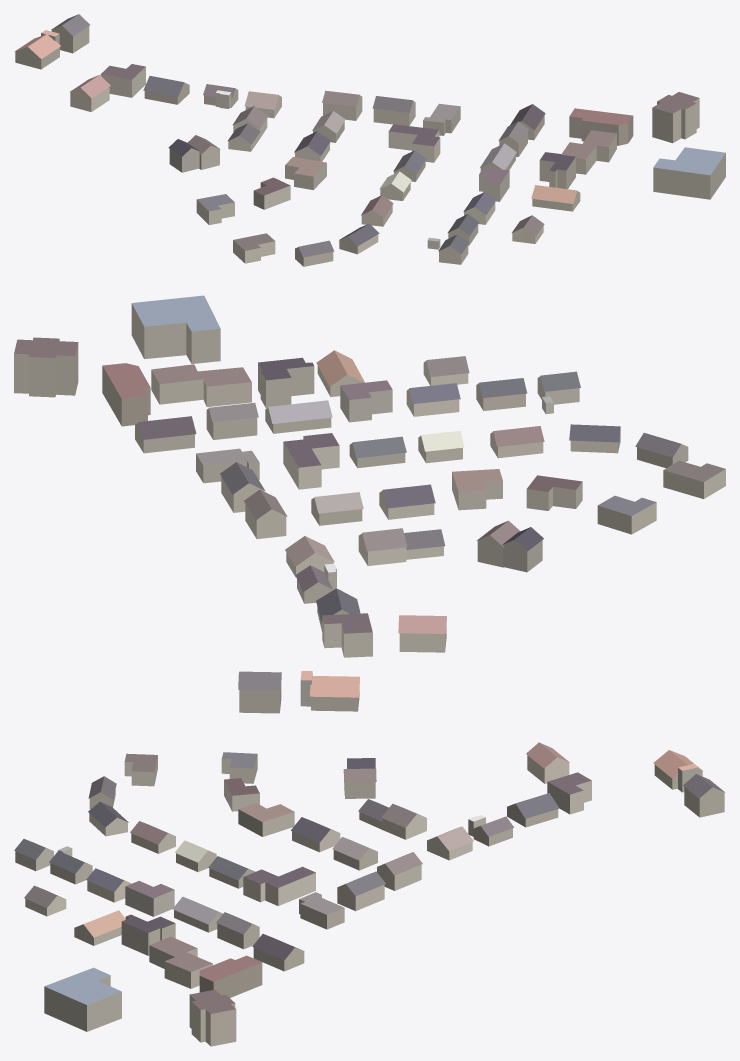
3 renders of one model, top to bottom at view 1: azimuth 30°, elevation 25°; view 2: azimuth 150°, elevation 25°; view 3: azimuth 270°, elevation 25°, orthographic. The views are drawn at different scales.
Visible parts, largest first — view 1: tuile; view 2: tuile; view 3: tuile.
Boxes of the visible parts, bbox=[...] form: tuile: bbox=[14, 14, 725, 266]; tuile: bbox=[14, 295, 725, 713]; tuile: bbox=[14, 742, 725, 1046].
Size of the model in its own units: 217 by 19.89 by 246.
